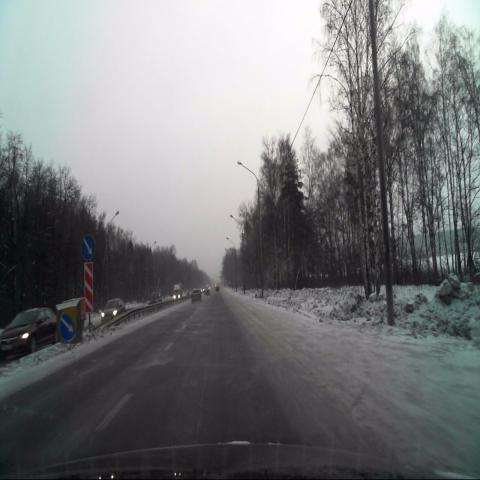4_2_1: (81, 233, 95, 261)
